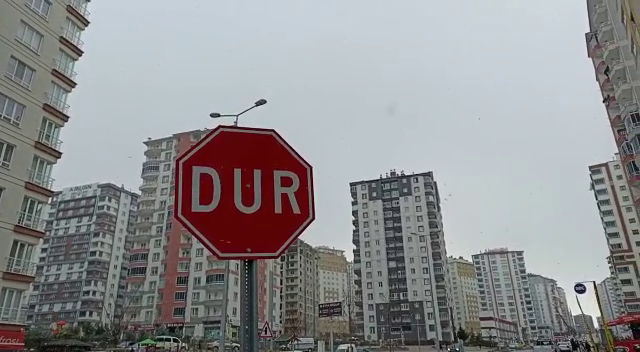stop: (171, 123, 319, 262)
